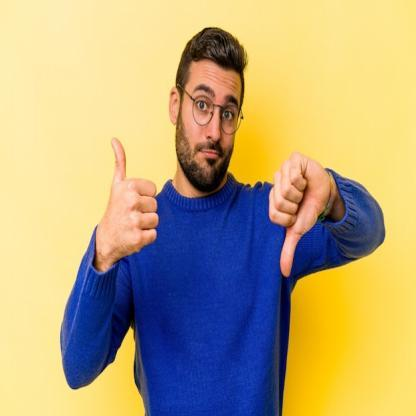thumb_down: (266, 144, 327, 281)
thumb_up: (97, 135, 160, 261)
